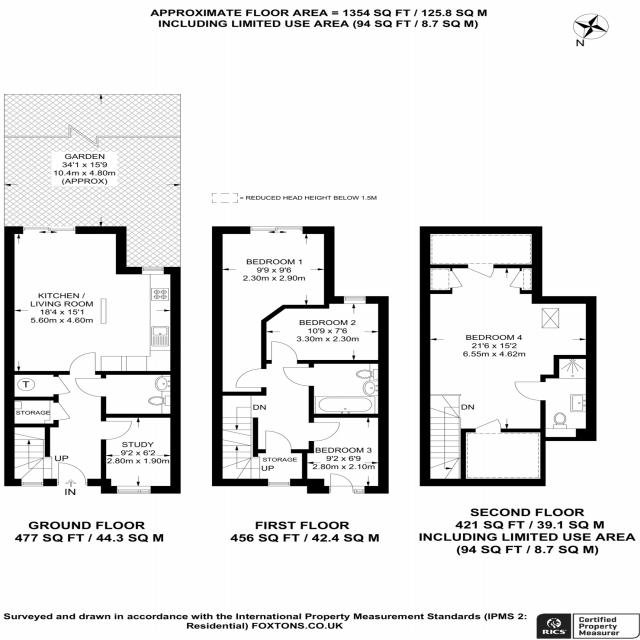DOOR: (56, 462, 88, 486), (261, 430, 294, 453), (270, 340, 299, 364), (74, 377, 107, 398), (514, 381, 546, 402), (282, 366, 314, 387), (101, 420, 133, 441), (68, 352, 96, 375), (235, 368, 267, 388), (309, 422, 341, 442), (473, 418, 503, 433), (466, 264, 495, 279)
ROOM: (419, 264, 598, 486), (4, 226, 181, 374), (212, 226, 336, 395), (261, 296, 390, 363), (302, 414, 389, 494)
SLIDING DOOR: (248, 225, 304, 234), (22, 226, 77, 234)
WINDOW: (115, 486, 152, 494), (139, 266, 165, 275), (342, 295, 367, 304), (266, 478, 291, 487), (20, 482, 44, 487)
